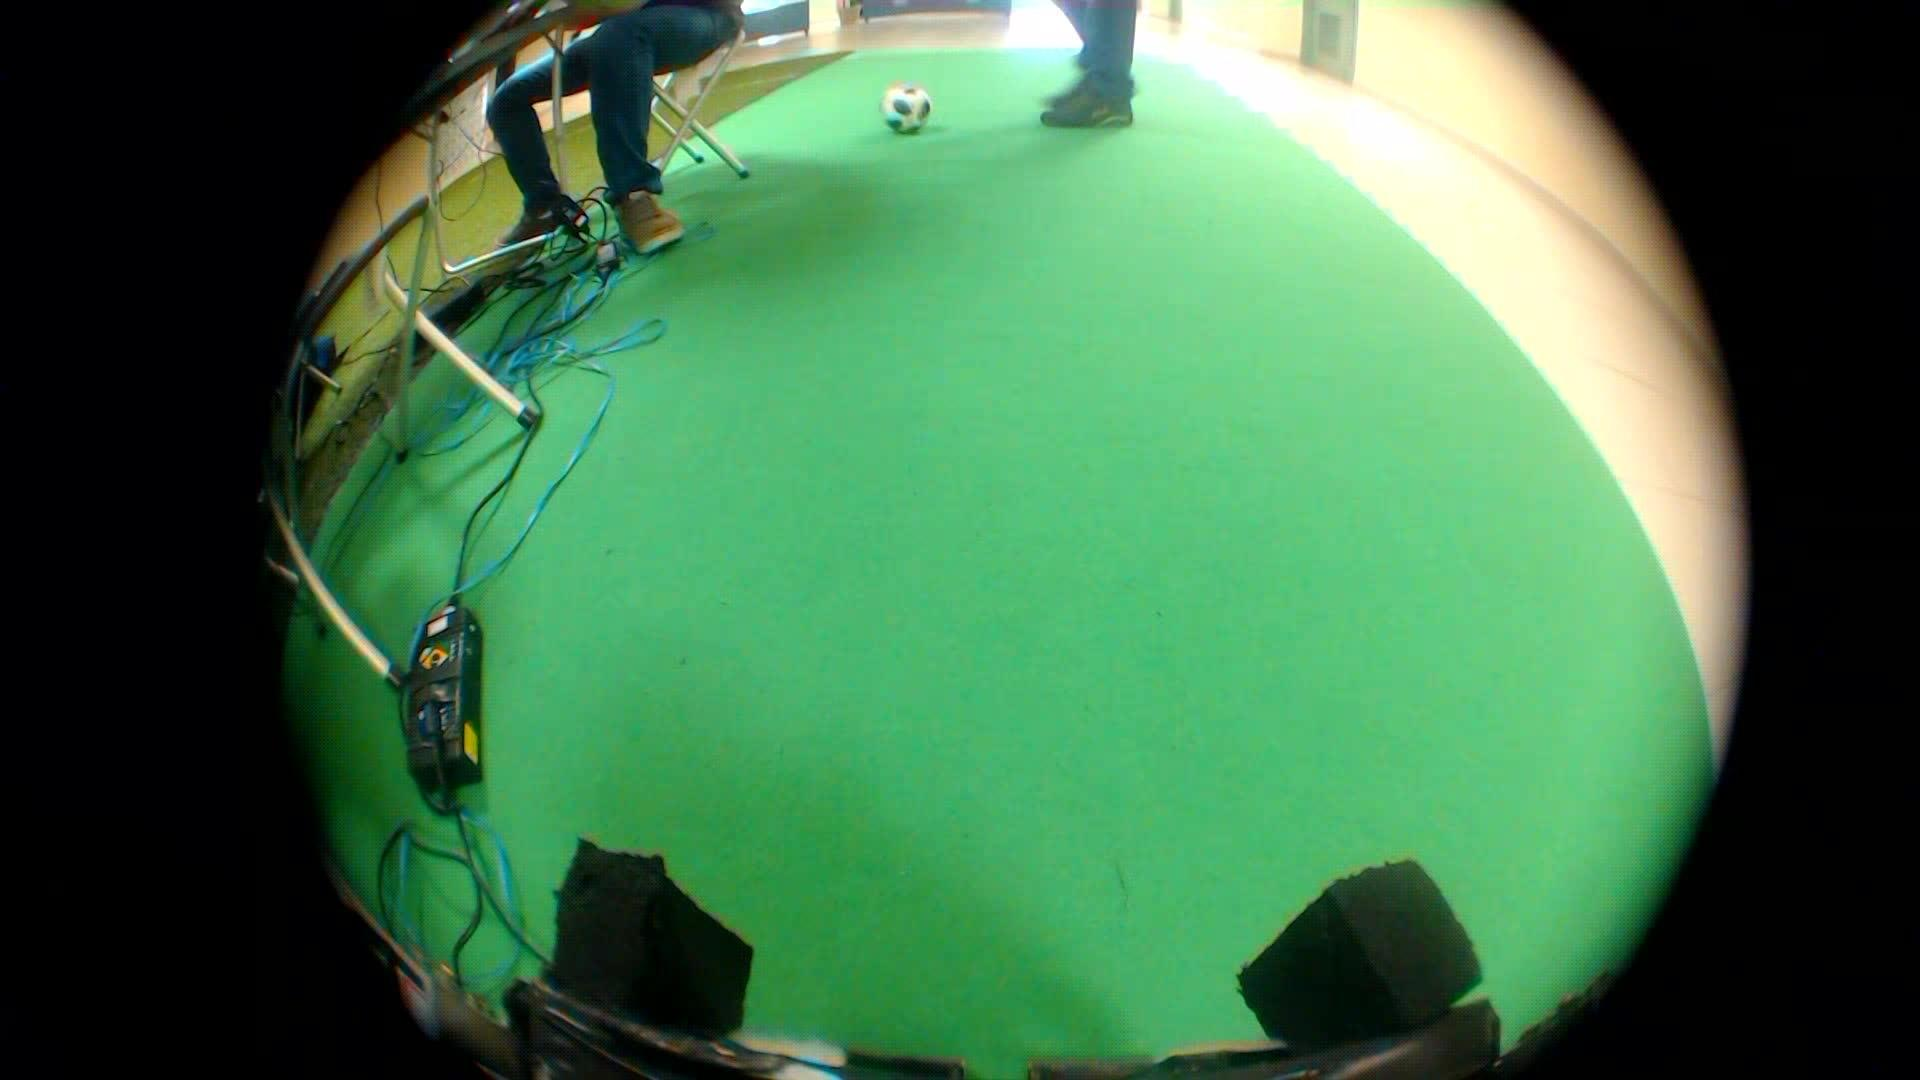ball: (866, 69, 949, 146)
